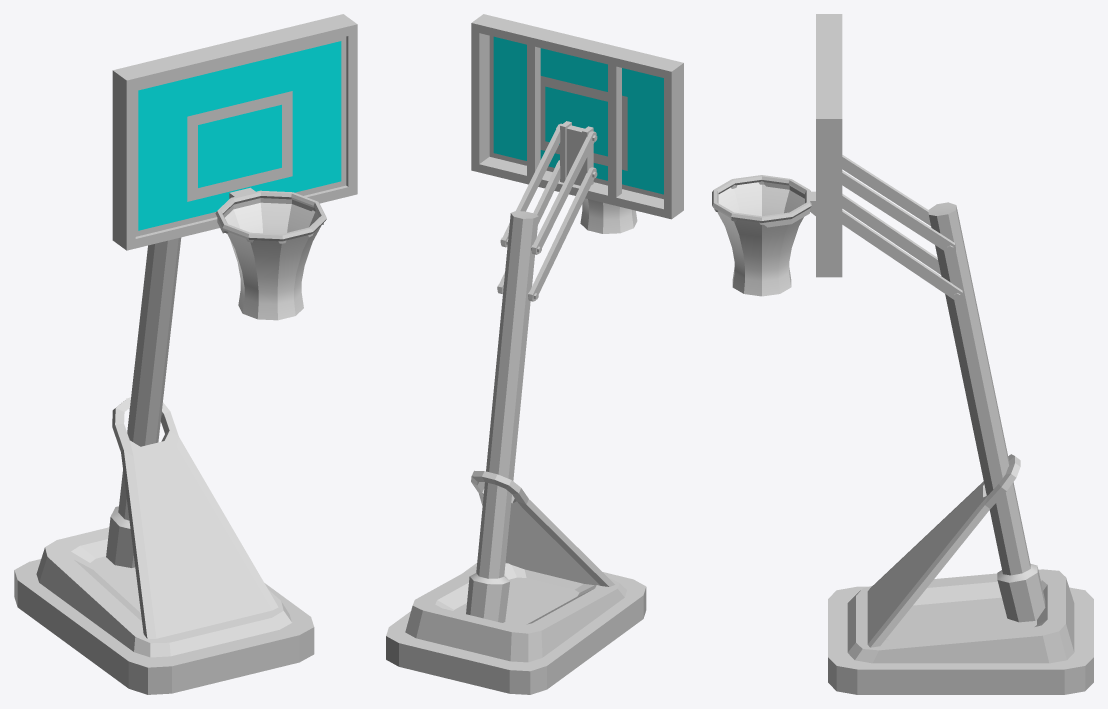
File: SM_Prop_Sport_BasketballHoop_01.glb
3 views of the same model, side by side, from view 1: azimuth 30°, elevation 25°; view 2: azimuth 150°, elevation 25°; view 3: azimuth 270°, elevation 25° (orthographic). The views are drawn at different scales.
Visible parts, largest first — view 1: SM_Prop_Sport_BasketballHoop_01, SM_Prop_Sport_BasketballHoop_Glass_01, SM_Prop_Sport_BasketballHoop_Net_01; view 2: SM_Prop_Sport_BasketballHoop_01, SM_Prop_Sport_BasketballHoop_Glass_01, SM_Prop_Sport_BasketballHoop_Net_01; view 3: SM_Prop_Sport_BasketballHoop_01, SM_Prop_Sport_BasketballHoop_Net_01.
Part boxes in pixels (x1,y1,x2,y2): SM_Prop_Sport_BasketballHoop_01: (14,14,357,694); SM_Prop_Sport_BasketballHoop_Glass_01: (138,41,341,230); SM_Prop_Sport_BasketballHoop_Net_01: (225,202,321,320); SM_Prop_Sport_BasketballHoop_01: (386,14,683,694); SM_Prop_Sport_BasketballHoop_Glass_01: (493,36,663,194); SM_Prop_Sport_BasketballHoop_Net_01: (580,198,637,233); SM_Prop_Sport_BasketballHoop_01: (712,14,1093,694); SM_Prop_Sport_BasketballHoop_Net_01: (717,182,804,296).
Bounding box in the file's own units: 1.01 × 2.64 × 1.56.
